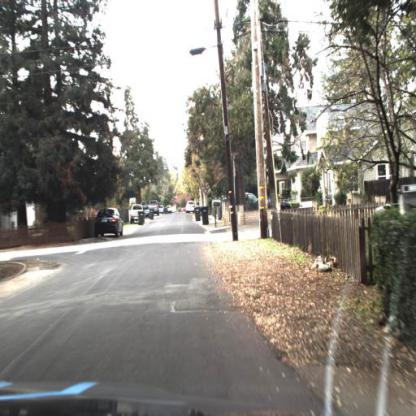car: (94, 204, 126, 238), (95, 207, 123, 239), (254, 196, 292, 214), (129, 200, 148, 229), (237, 190, 261, 209), (129, 203, 144, 224), (185, 201, 197, 214), (150, 200, 159, 216), (145, 206, 154, 219)
